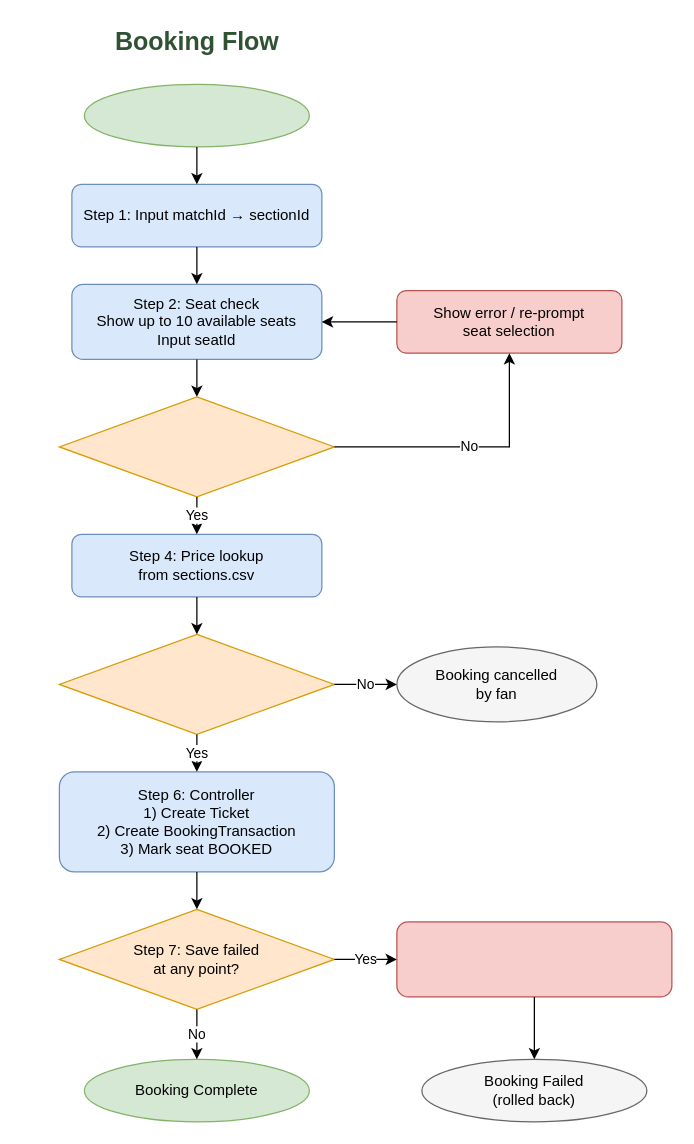
Image size: 694x1144. Some labels were removed from this diagram. Here are the shapes that lost their labels. From the top down, the box of each, then its label:
(83, 83, 309, 147): Start Booking
(58, 396, 334, 497): Step 3: Seat exists && status = AVAILABLE?
(58, 633, 334, 734): Step 5: Confirmation dialog (y/n)
(396, 921, 672, 997): Rollback all prior writes (Ticket / Transaction / Seat status)
